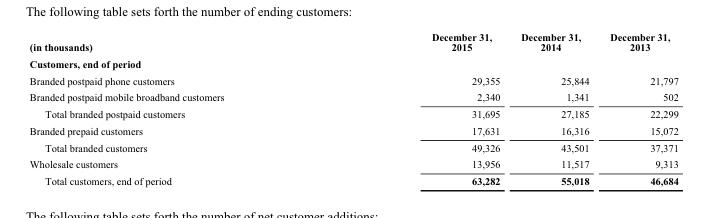table: (28, 29, 677, 187)
table column: (28, 29, 327, 187), (327, 29, 509, 187), (509, 29, 598, 187), (598, 29, 677, 187)
table column header: (28, 29, 677, 54)
table projected row header: (28, 54, 677, 71)
table row: (28, 29, 677, 54), (28, 54, 677, 71), (28, 71, 677, 88), (28, 88, 677, 105), (28, 121, 677, 138), (28, 138, 677, 155), (28, 155, 677, 172), (28, 105, 677, 121), (28, 172, 677, 187)
